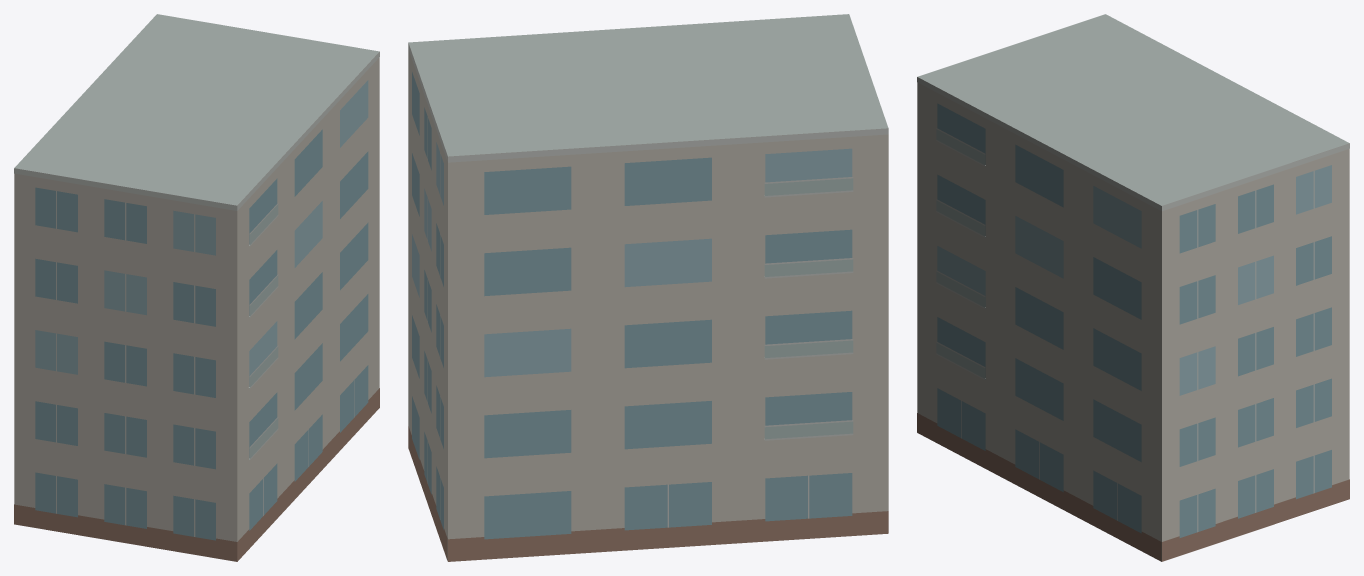
File: survey-upis-32768727.glb
3 renders of one model, left to right at view 1: azimuth 30°, elevation 25°; view 2: azimuth 150°, elevation 25°; view 3: azimuth 270°, elevation 25°, orthographic. The views are drawn at different scales.
Visible parts, largest first — view 1: survey-upis-32768727.tmp; view 2: survey-upis-32768727.tmp; view 3: survey-upis-32768727.tmp.
Boxes of the visible parts, box(x1,y1,x2,y2) form: survey-upis-32768727.tmp: box(14, 14, 379, 561); survey-upis-32768727.tmp: box(408, 14, 888, 561); survey-upis-32768727.tmp: box(917, 14, 1349, 561).
Size of the model in its own units: 18.63 by 16.1 by 17.74.
